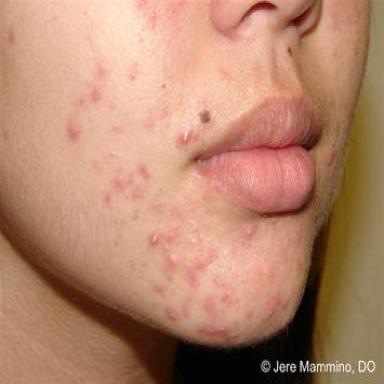acne: (190, 248, 215, 269), (163, 228, 181, 250), (177, 124, 192, 145), (68, 118, 81, 139), (113, 175, 129, 191), (199, 324, 224, 334), (137, 164, 150, 181), (242, 224, 253, 240), (267, 301, 277, 318), (216, 69, 231, 80), (166, 307, 177, 321), (91, 90, 101, 102), (150, 231, 159, 244), (168, 254, 177, 267), (103, 192, 110, 207), (151, 199, 161, 209), (100, 63, 105, 78), (263, 271, 271, 275), (112, 150, 116, 156), (161, 84, 166, 88)
